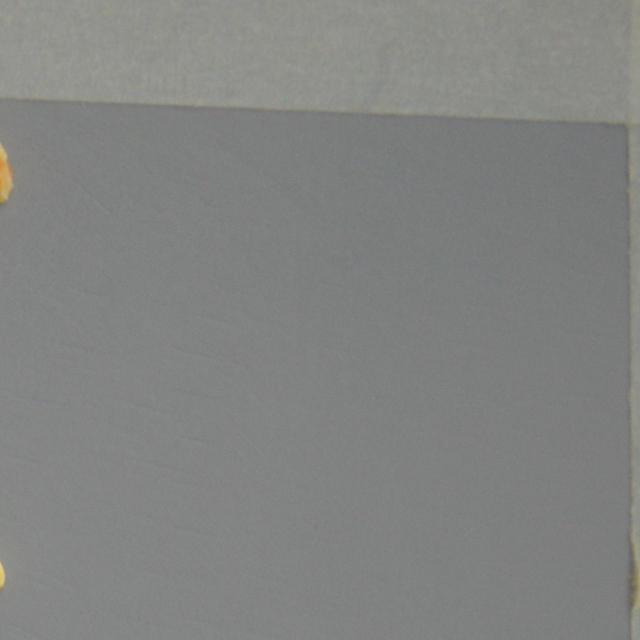pelicula: (0, 100, 20, 212), (0, 512, 10, 622)
